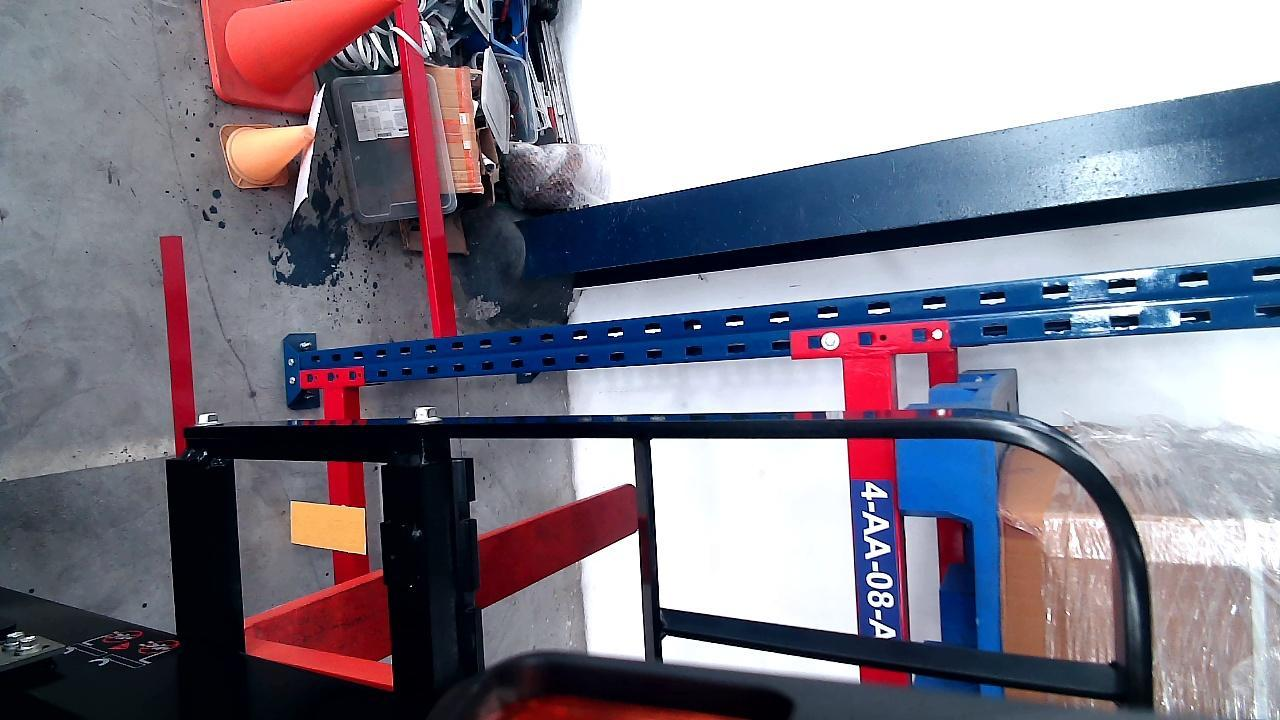red_line: (162, 236, 196, 448)
